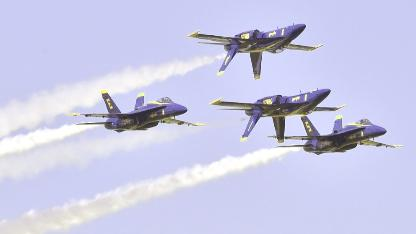F15: (186, 22, 324, 80), (209, 87, 347, 143), (67, 89, 205, 133), (267, 115, 403, 155)
